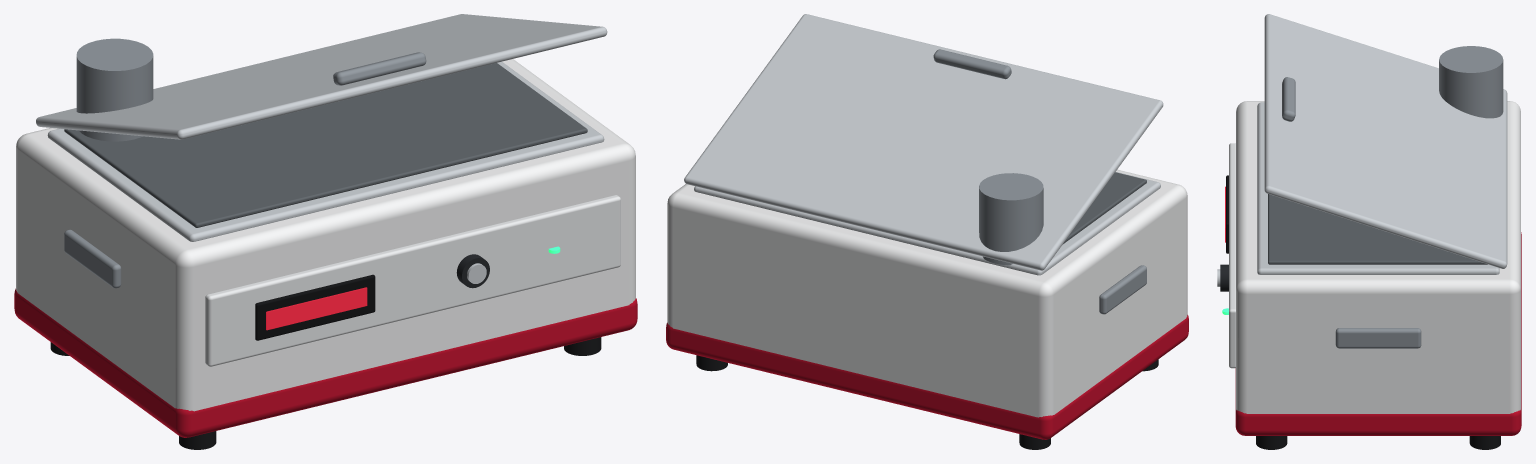
Rendered from nss-20.glb.
3 views of the same model, side by side, from view 1: azimuth 30°, elevation 25°; view 2: azimuth 150°, elevation 25°; view 3: azimuth 270°, elevation 25° (orthographic). The views are drawn at different scales.
Size of the model in its own units: 0.642 by 0.42 by 0.4266.
